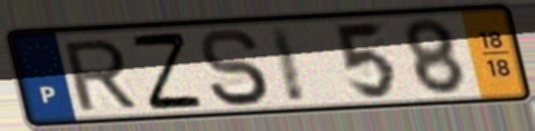5: (330, 18, 400, 101)
8: (401, 14, 469, 99)
I: (265, 23, 309, 106)
R: (60, 36, 141, 114)
S: (196, 26, 273, 109)
Z: (127, 29, 207, 113)
